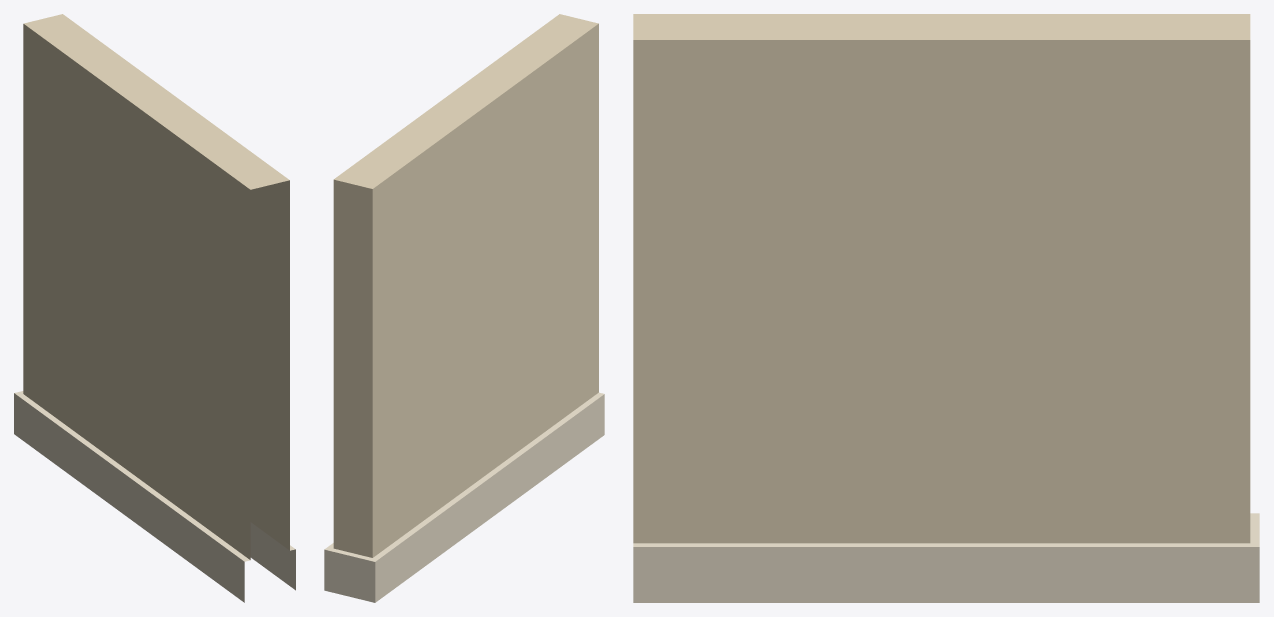
The model's file is Mesh_Wall_End.fbx.
3 renders of one model, left to right at view 1: azimuth 30°, elevation 25°; view 2: azimuth 150°, elevation 25°; view 3: azimuth 270°, elevation 25°, orthographic. The views are drawn at different scales.
Visible parts, largest first — view 1: Wall_End; view 2: Wall_End; view 3: Wall_End.
Part boxes in pixels (x1,y1,x2,y2): Wall_End: (14,14,295,602); Wall_End: (324,14,604,602); Wall_End: (633,14,1259,602).
Bounding box in the file's own units: 26 × 200 × 203.
